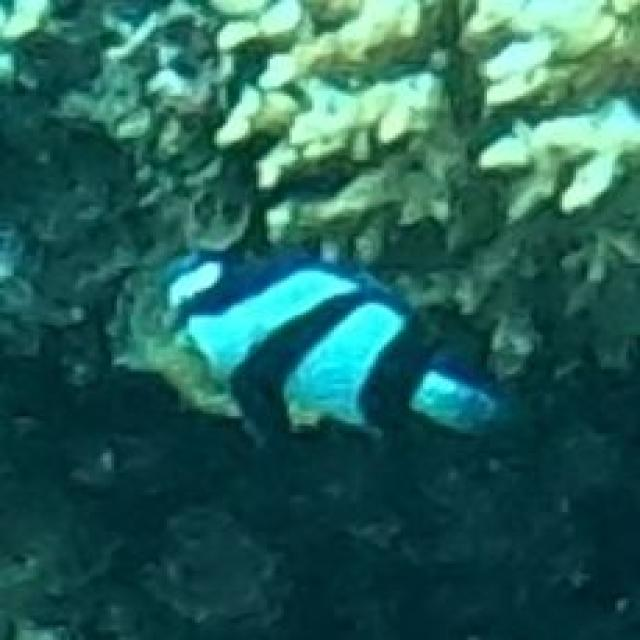ThreeStripedDamselfish: (158, 240, 502, 450)
